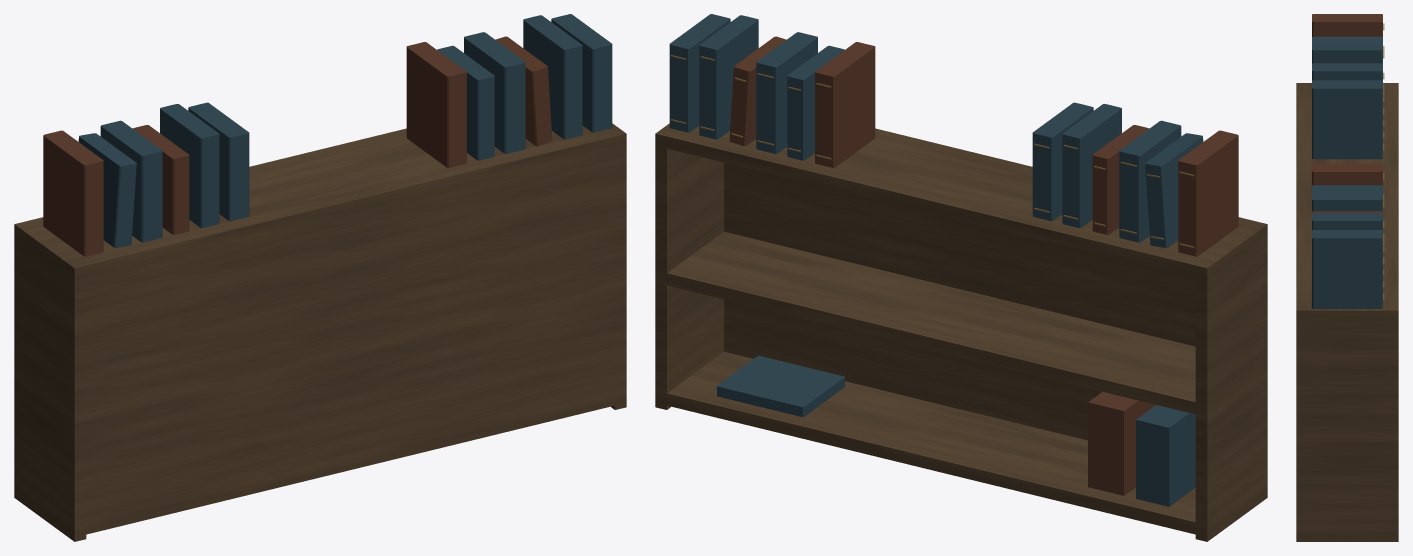
File: SM_ArchiveProps_Bookcase_LOD2.glb
3 views of the same model, side by side, from view 1: azimuth 30°, elevation 25°; view 2: azimuth 150°, elevation 25°; view 3: azimuth 270°, elevation 25° (orthographic). The views are drawn at different scales.
Parts seen in each view (by area): view 1: SM_ArchiveProps_Bookcase_LOD2; view 2: SM_ArchiveProps_Bookcase_LOD2; view 3: SM_ArchiveProps_Bookcase_LOD2.
Boxes of the visible parts, x1=… form: SM_ArchiveProps_Bookcase_LOD2: x1=14, y1=14, x2=626, y2=541; SM_ArchiveProps_Bookcase_LOD2: x1=655, y1=14, x2=1267, y2=541; SM_ArchiveProps_Bookcase_LOD2: x1=1296, y1=14, x2=1398, y2=541.
Bounding box in the file's own units: 1.9 × 1.2 × 0.36.
4 materials, 1 textured.
